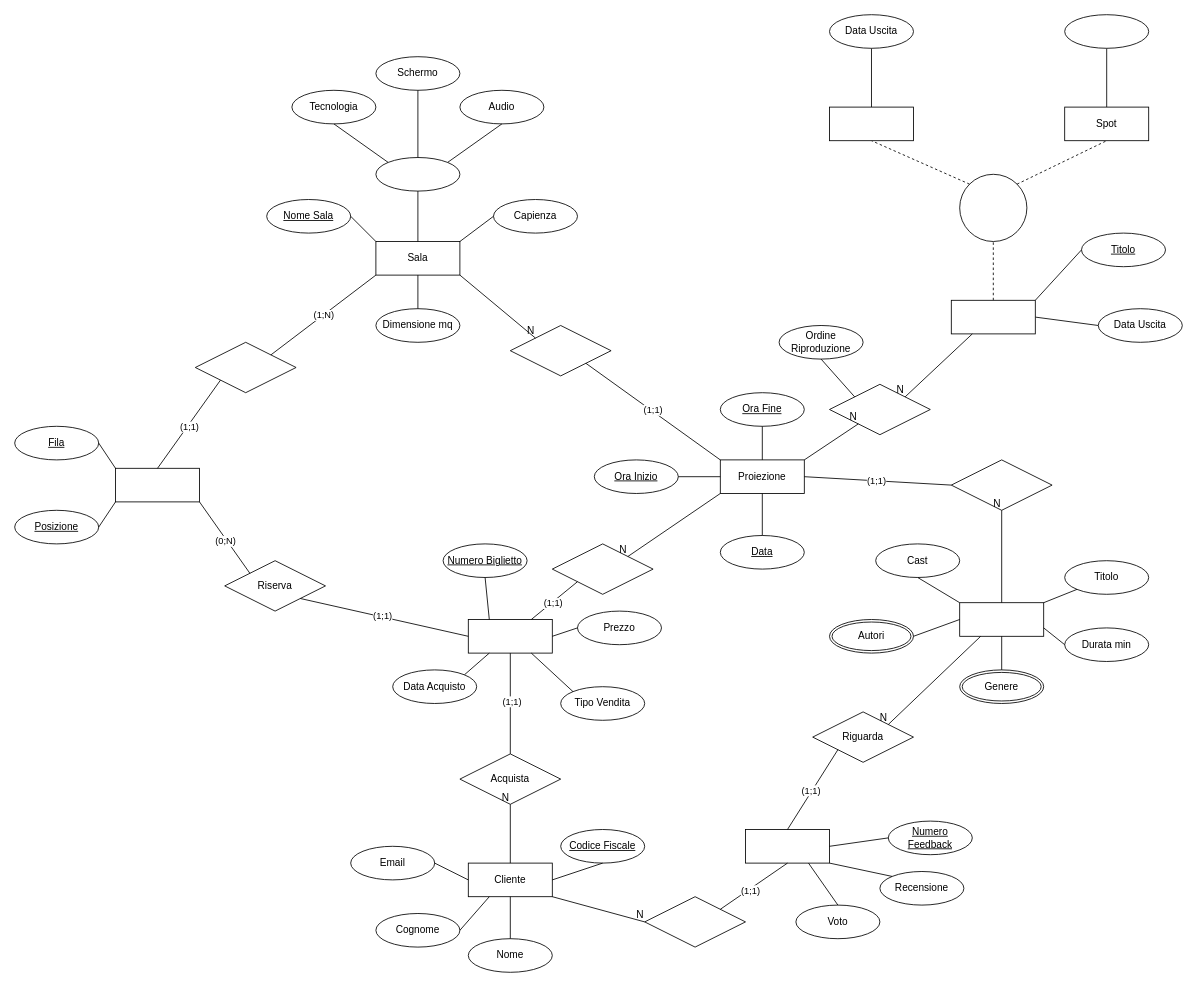
This 1197x987 diagram has some shape labels left out. Here are the shapes that lost their labels. From the top down, the box of each, then its label:
(1064, 14, 1149, 48): Azienda Sponsor
(829, 106, 914, 141): Anteprima
(375, 157, 460, 191): Apparecchiature
(959, 173, 1027, 242): Totale Disgiunto
(950, 299, 1035, 334): Video Extra
(194, 341, 296, 393): Contiene
(509, 325, 611, 376): Ospita
(829, 383, 930, 435): Preceduta_Da
(115, 467, 200, 502): Poltrona
(950, 459, 1052, 510): Programmato
(551, 543, 653, 594): Relationship
(467, 619, 552, 653): Biglietto
(959, 602, 1044, 636): Film
(745, 829, 830, 863): Feedback
(644, 896, 746, 947): Scrive
